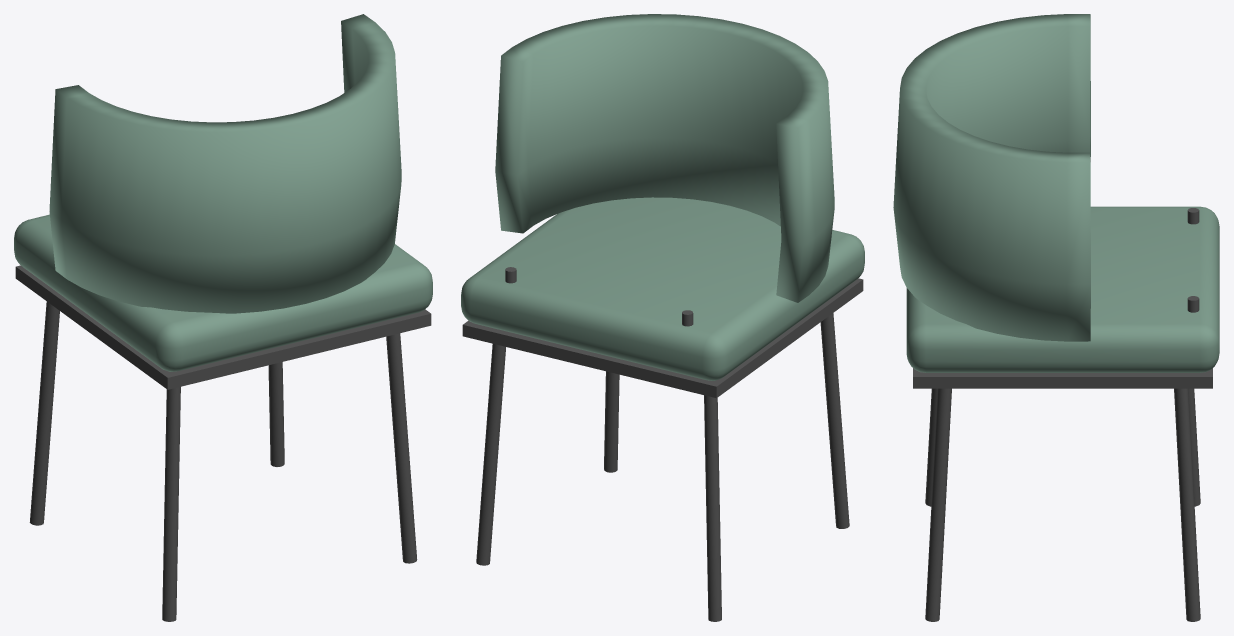
Rendered from it_dining_chair.glb.
3 renders of one model, left to right at view 1: azimuth 30°, elevation 25°; view 2: azimuth 150°, elevation 25°; view 3: azimuth 270°, elevation 25°, orthographic. The views are drawn at different scales.
Parts seen in each view (by area): view 1: back, seat, seatpan, leg, leg.002, leg.001, leg.003; view 2: back, seat, seatpan, leg.001, leg.003, leg, leg.002; view 3: back, seat, seatpan, leg.003, leg.002, leg.001, leg.
Part boxes in pixels (left/top/right/bottom): back: left=49, top=14, right=401, bottom=313; seat: left=14, top=214, right=432, bottom=371; seatpan: left=15, top=265, right=431, bottom=389; leg: left=162, top=387, right=180, bottom=621; leg.002: left=386, top=333, right=417, bottom=563; leg.001: left=29, top=301, right=59, bottom=525; leg.003: left=268, top=362, right=284, bottom=466; back: left=495, top=14, right=834, bottom=302; seat: left=461, top=197, right=864, bottom=380; seatpan: left=462, top=278, right=863, bottom=398; leg.001: left=704, top=395, right=721, bottom=621; leg.003: left=476, top=344, right=505, bottom=565; leg: left=820, top=313, right=849, bottom=528; leg.002: left=604, top=371, right=619, bottom=472; back: left=893, top=14, right=1090, bottom=341; seat: left=906, top=206, right=1219, bottom=372; seatpan: left=913, top=368, right=1212, bottom=388; leg.003: left=1174, top=388, right=1200, bottom=621; leg.002: left=925, top=388, right=951, bottom=621; leg.001: left=1188, top=388, right=1200, bottom=506; leg: left=925, top=388, right=937, bottom=506.
Size of the model in its own units: 0.5593 by 0.8013 by 0.5.
